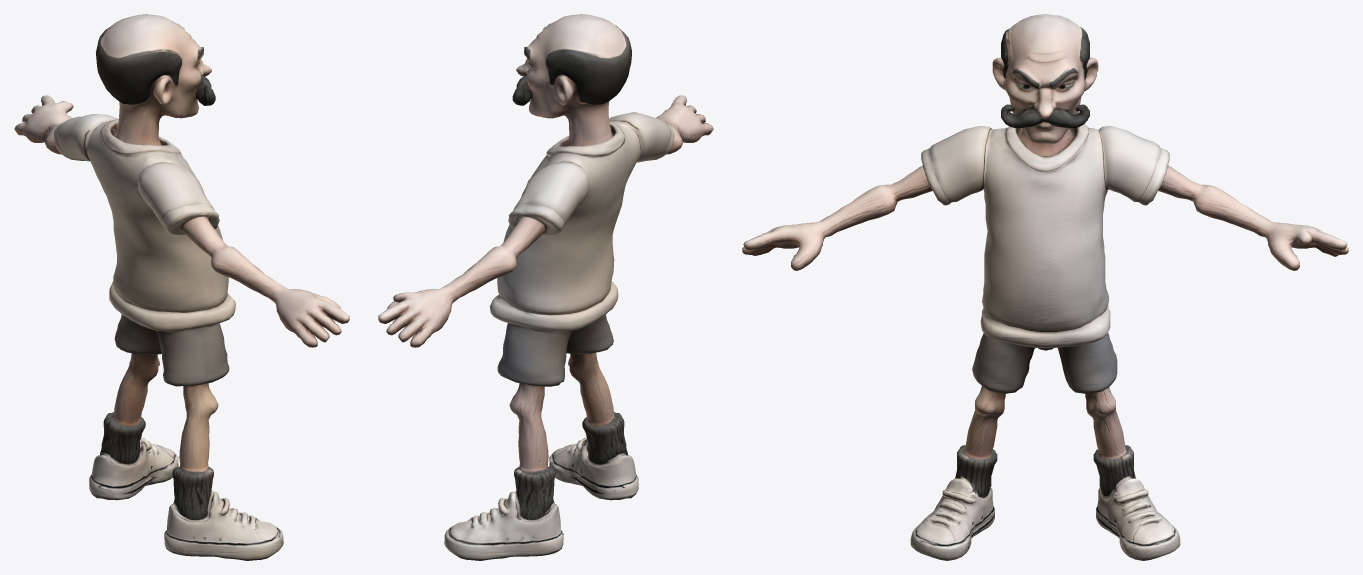
The picture shows the model from 3 angles, left to right: view 1: azimuth 30°, elevation 25°; view 2: azimuth 150°, elevation 25°; view 3: azimuth 270°, elevation 25°; orthographic projection.
Parts seen in each view (by area): view 1: tripo_node_7cc0ebbf; view 2: tripo_node_7cc0ebbf; view 3: tripo_node_7cc0ebbf.
Boxes of the visible parts, box(x1,y1,x2,y2) form: tripo_node_7cc0ebbf: box(14, 14, 349, 560); tripo_node_7cc0ebbf: box(378, 14, 713, 560); tripo_node_7cc0ebbf: box(742, 14, 1348, 560).
Size of the model in its own units: 23.48 by 91.59 by 100.
1 material, 1 textured.
